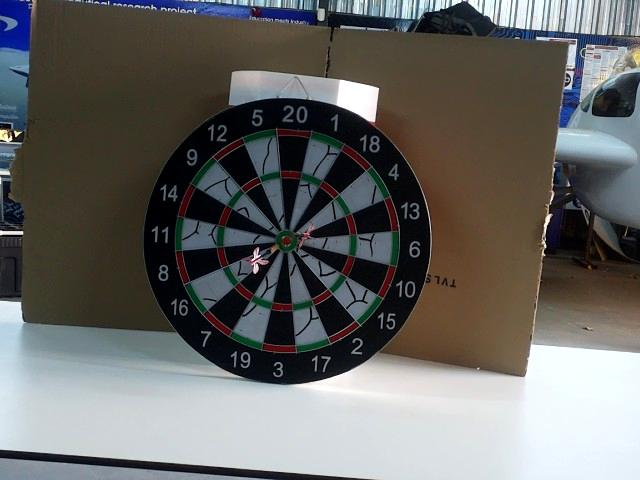bullseye: (277, 233, 298, 252)
